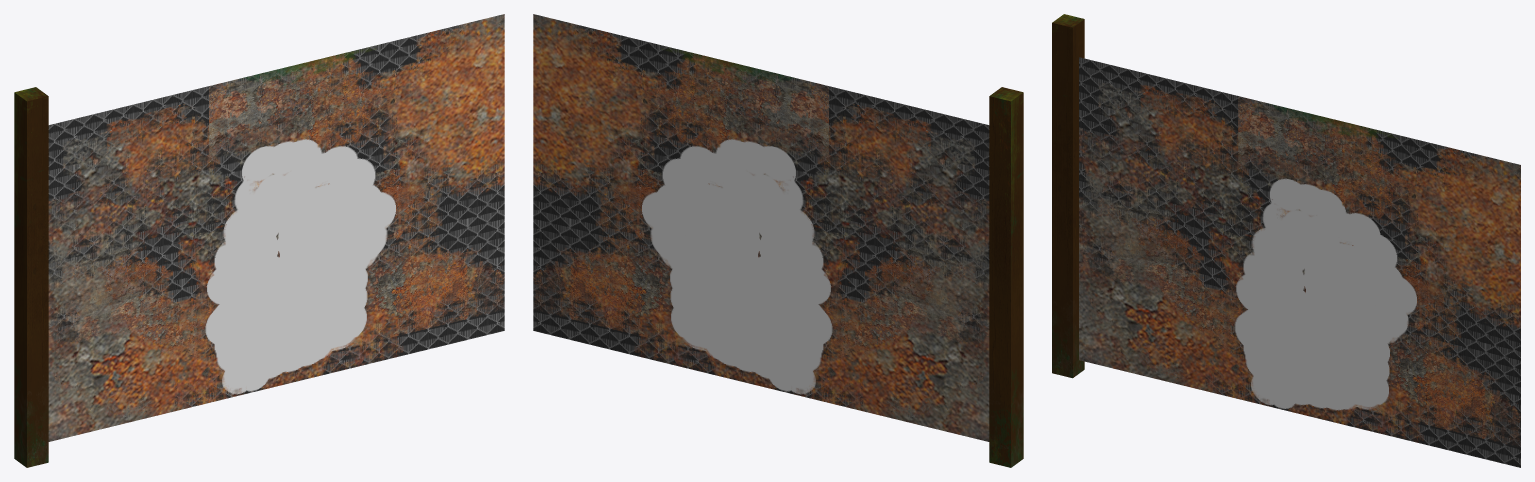
The model's file is 3D_Natozaun_kaputt_001.fbx.
The picture shows the model from 3 angles, left to right: view 1: azimuth 30°, elevation 25°; view 2: azimuth 150°, elevation 25°; view 3: azimuth 330°, elevation 25°; orthographic projection. The views are drawn at different scales.
Parts seen in each view (by area): view 1: Natozaun_001; view 2: Natozaun_001; view 3: Natozaun_001.
Boxes of the visible parts, <box> form: Natozaun_001: <box>14,14,504,467</box>; Natozaun_001: <box>533,14,1023,467</box>; Natozaun_001: <box>1052,14,1520,467</box>.
Size of the model in its own units: 8.7 by 6.3 by 0.3901.
